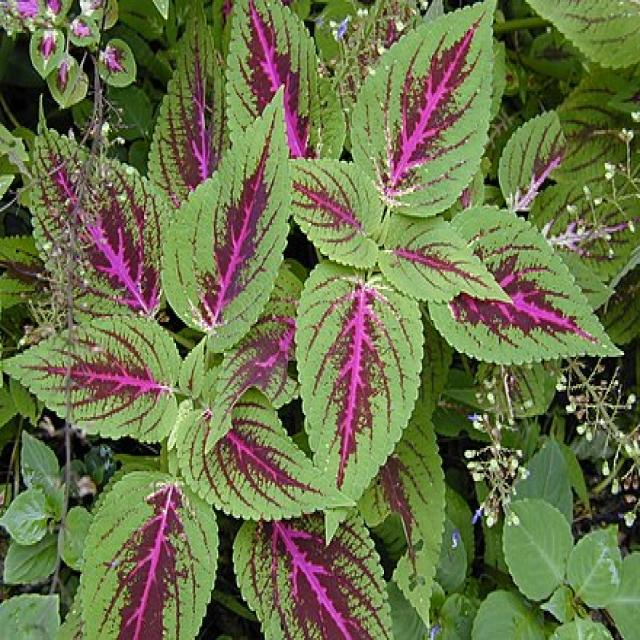Coleus: (19, 99, 412, 634), (230, 4, 618, 510)
